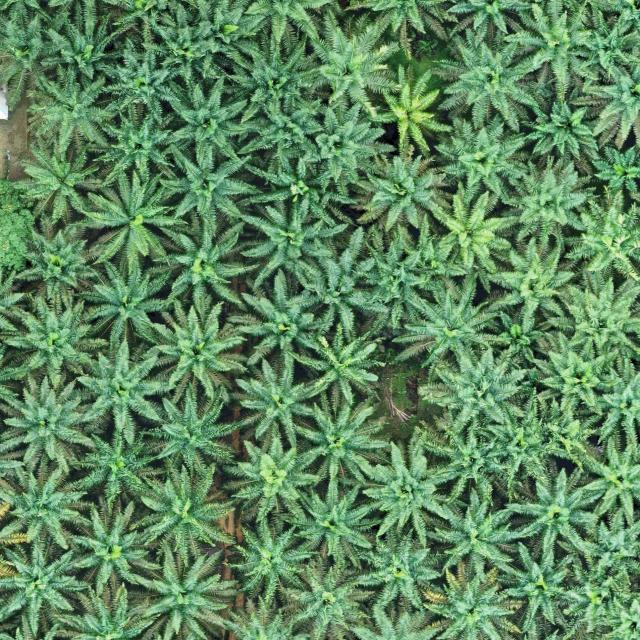Tree: (131, 294, 247, 415), (71, 333, 185, 453), (286, 222, 397, 344), (432, 24, 548, 136), (499, 0, 612, 105), (390, 276, 502, 381), (355, 434, 459, 546), (236, 193, 352, 291), (413, 343, 530, 440), (300, 10, 406, 117), (133, 458, 240, 564), (149, 211, 264, 307), (0, 290, 111, 389), (127, 548, 246, 640), (228, 267, 337, 367), (301, 94, 401, 200), (500, 464, 607, 562), (157, 69, 250, 180), (272, 480, 380, 574), (413, 553, 528, 640), (539, 262, 640, 361), (478, 230, 576, 332), (223, 32, 328, 127), (77, 254, 179, 351), (0, 535, 95, 639), (0, 372, 99, 471), (0, 461, 100, 558), (78, 171, 180, 266), (69, 493, 163, 596), (426, 180, 523, 279), (498, 537, 591, 640), (521, 327, 625, 419), (425, 488, 529, 580), (144, 382, 242, 478), (230, 356, 326, 452), (24, 61, 119, 158), (224, 435, 325, 526), (428, 110, 531, 199), (348, 150, 454, 236), (294, 393, 388, 489), (351, 522, 449, 614), (85, 37, 186, 126), (288, 318, 390, 406), (507, 151, 601, 246), (36, 3, 140, 88), (0, 7, 78, 119), (229, 92, 326, 182), (155, 142, 259, 224), (360, 69, 452, 160), (245, 150, 359, 223), (225, 511, 322, 596), (559, 183, 640, 284), (136, 0, 224, 89), (419, 426, 518, 504), (281, 561, 378, 640), (13, 134, 100, 222), (480, 403, 560, 496), (357, 235, 437, 328), (89, 98, 175, 182), (11, 220, 100, 301), (560, 554, 640, 638), (52, 580, 164, 640), (76, 426, 156, 506), (561, 505, 640, 584), (579, 53, 640, 154), (393, 212, 468, 294), (222, 0, 352, 47), (528, 392, 600, 474), (574, 438, 640, 522), (523, 95, 600, 164), (589, 351, 640, 451), (434, 0, 531, 42), (581, 0, 640, 56), (590, 141, 640, 198)
